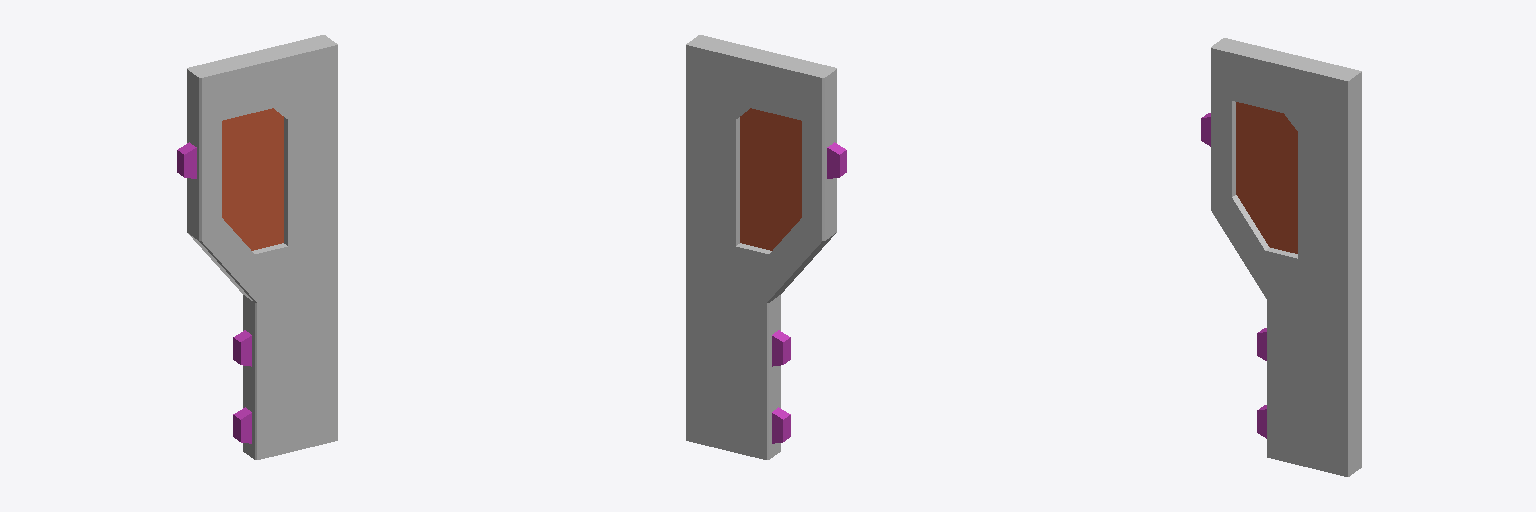
File: door2.obj
The picture shows the model from 3 angles: view 1: azimuth 30°, elevation 25°; view 2: azimuth 150°, elevation 25°; view 3: azimuth 330°, elevation 25°; orthographic projection.
Visible parts, largest first — view 1: Cube.001; view 2: Cube.001; view 3: Cube.001.
Boxes of the visible parts, x1,y1,x2,y2 form: Cube.001: [177, 35, 337, 459]; Cube.001: [686, 35, 846, 459]; Cube.001: [1201, 38, 1361, 476].
Bounding box in the file's own units: 1.08 × 2.71 × 0.1727.